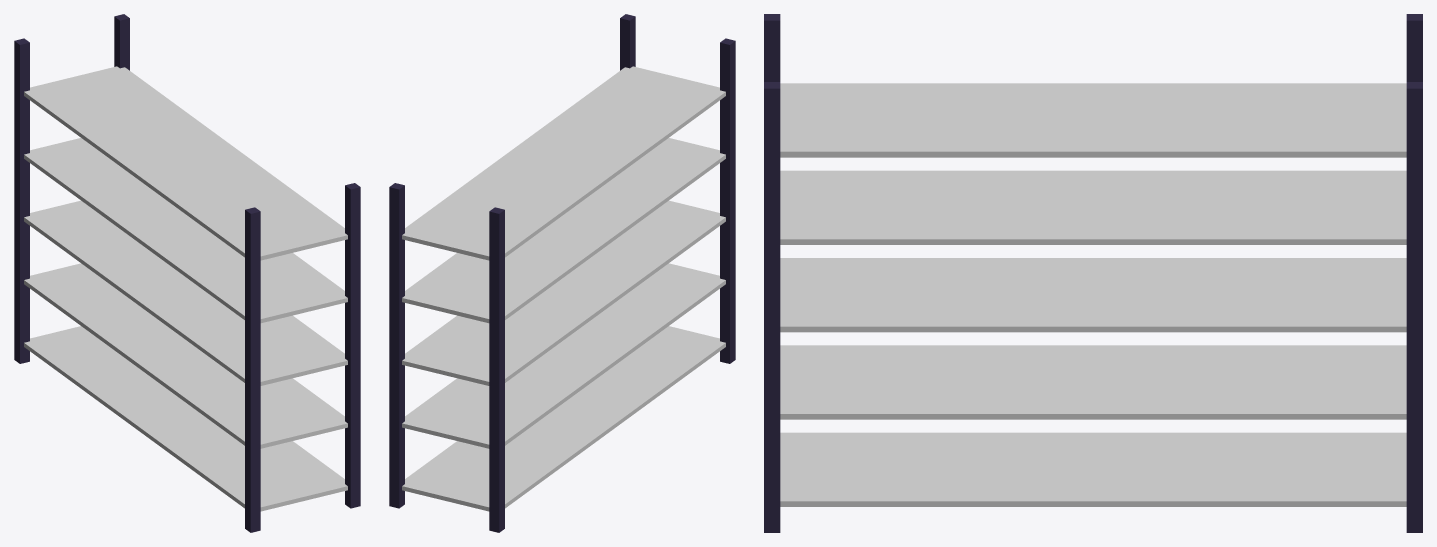
File: mod_basic_shelf.fbx
3 views of the same model, side by side, from view 1: azimuth 30°, elevation 25°; view 2: azimuth 150°, elevation 25°; view 3: azimuth 270°, elevation 25° (orthographic). The views are drawn at different scales.
Visible parts, largest first — view 1: basic_shelf; view 2: basic_shelf; view 3: basic_shelf.
Boxes of the visible parts, x1,y1,x2,y2 form: basic_shelf: [14, 14, 360, 532]; basic_shelf: [389, 14, 735, 532]; basic_shelf: [764, 14, 1422, 532].
Bounding box in the file's own units: 110 × 305 × 410.
